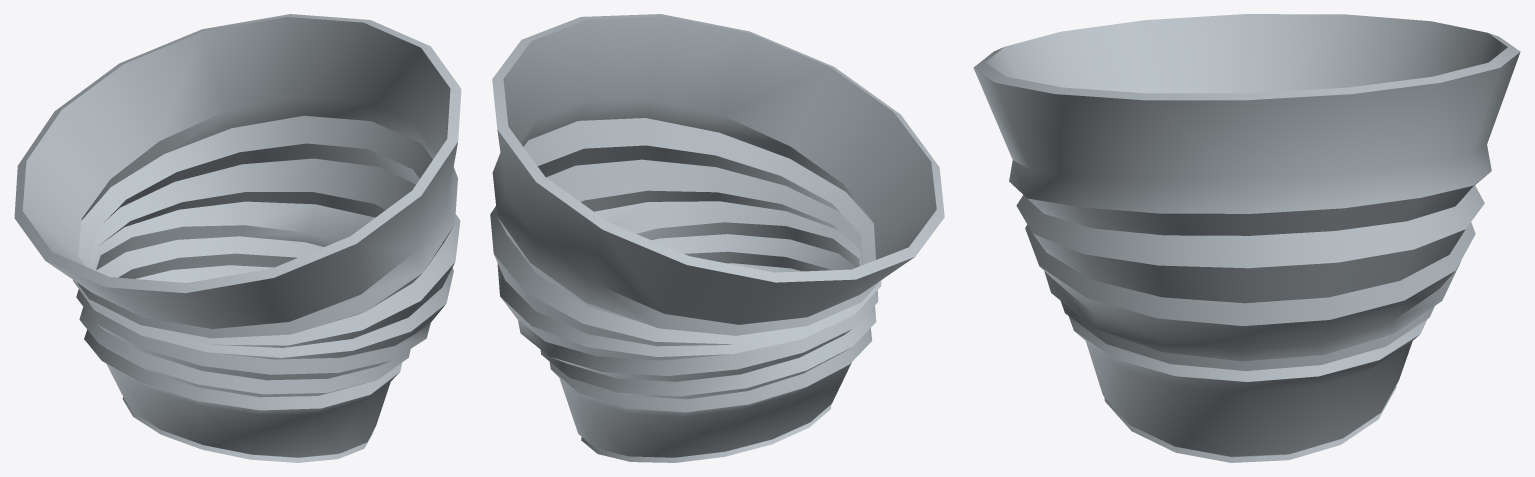
File: VasoPlastico_04.fbx
3 renders of one model, left to right at view 1: azimuth 30°, elevation 25°; view 2: azimuth 150°, elevation 25°; view 3: azimuth 270°, elevation 25°, orthographic. The views are drawn at different scales.
Visible parts, largest first — view 1: VasoPlastico_04; view 2: VasoPlastico_04; view 3: VasoPlastico_04.
Part boxes in pixels (box(x1,y1,x2,y2)): VasoPlastico_04: box(14, 14, 461, 462); VasoPlastico_04: box(490, 14, 944, 462); VasoPlastico_04: box(973, 14, 1520, 462).
Bounding box in the file's own units: 28.38 × 24.11 × 29.22.
